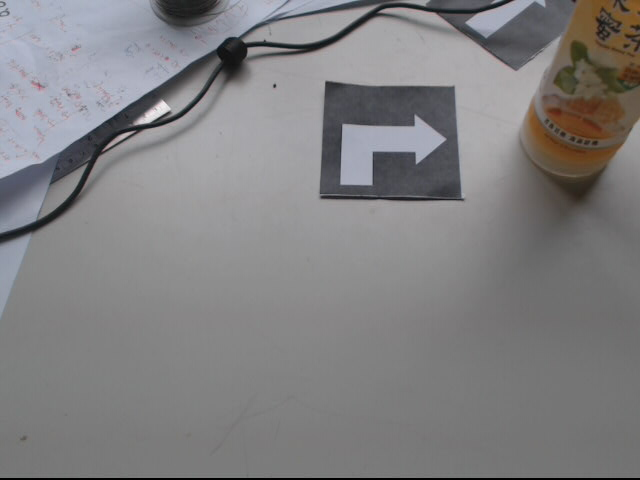right: (318, 81, 465, 199)
